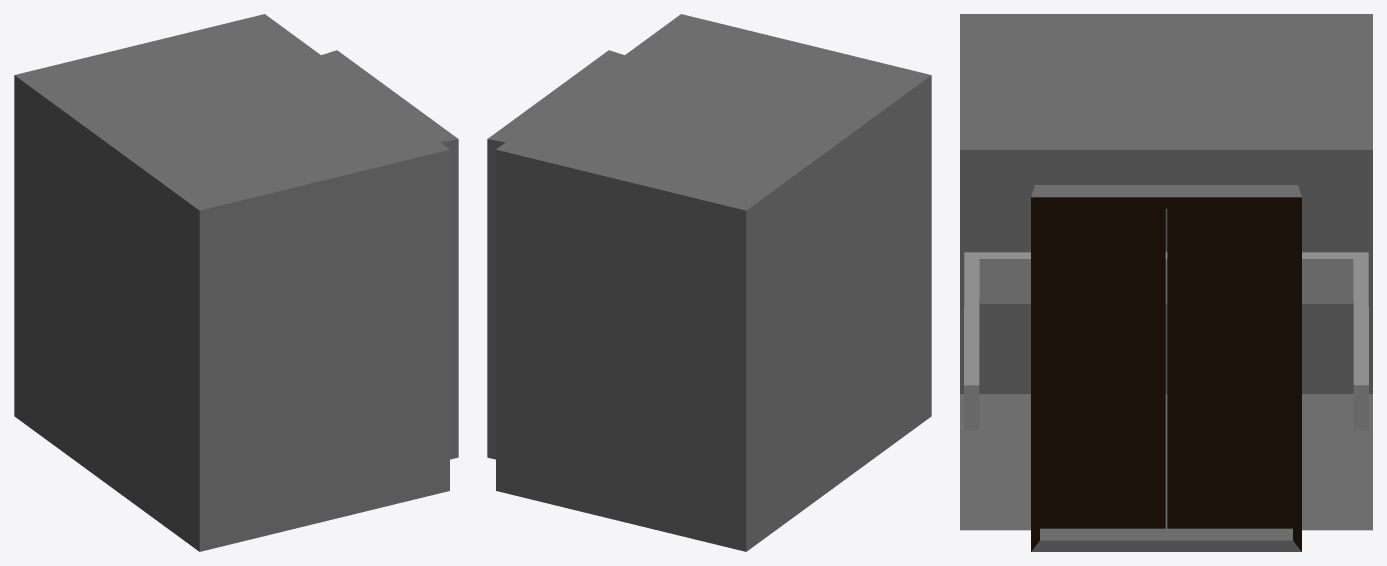
Rendered from elavator_final.fbx.
The picture shows the model from 3 angles, left to right: view 1: azimuth 30°, elevation 25°; view 2: azimuth 150°, elevation 25°; view 3: azimuth 270°, elevation 25°; orthographic projection. The views are drawn at different scales.
Visible parts, largest first — view 1: polySurface52, polySurface48; view 2: polySurface52, polySurface48; view 3: polySurface52, polySurface49, polySurface50, polySurface48.
Boxes of the visible parts, left/top/right/bottom form: polySurface52: left=14, top=14, right=449, bottom=551; polySurface48: left=321, top=50, right=458, bottom=459; polySurface52: left=496, top=14, right=931, bottom=551; polySurface48: left=487, top=50, right=624, bottom=459; polySurface52: left=960, top=14, right=1372, bottom=530; polySurface49: left=1167, top=208, right=1292, bottom=528; polySurface50: left=1040, top=208, right=1165, bottom=528; polySurface48: left=1031, top=185, right=1301, bottom=551.
Bounding box in the file's own units: 186 × 209 × 205.
